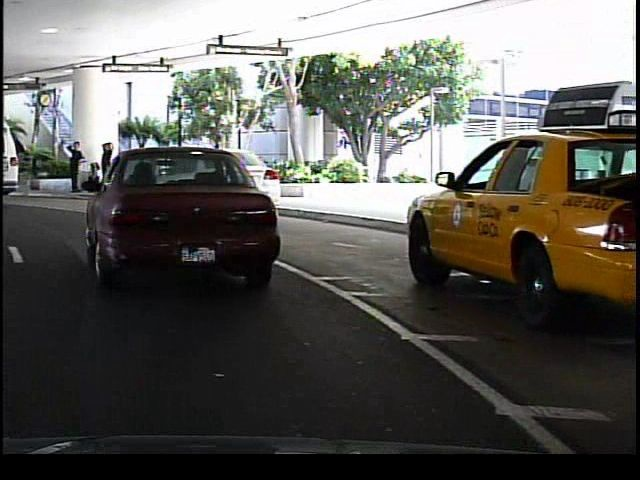person: (146, 145, 174, 198), (59, 139, 83, 197), (95, 140, 115, 174)
